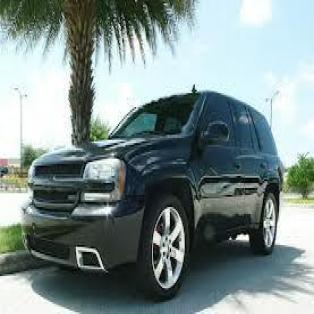Auto: (18, 79, 285, 304)
